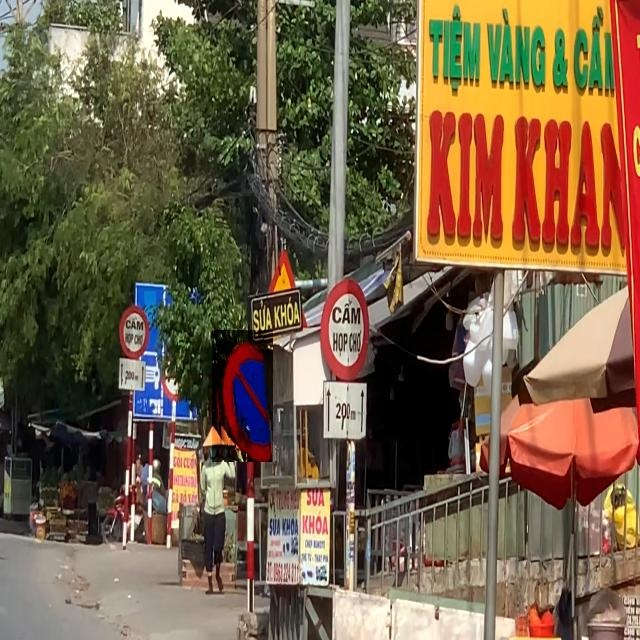bien_cam: (212, 330, 273, 462)
